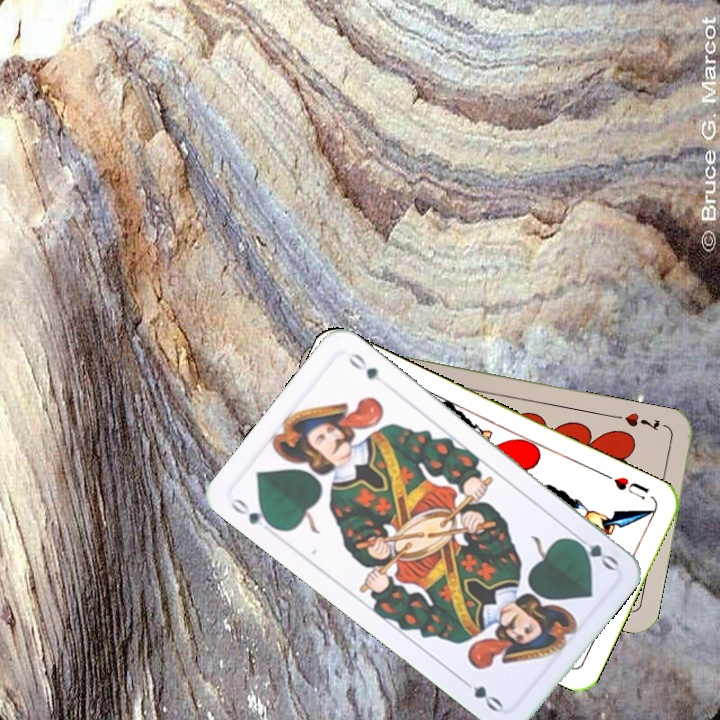GO: (566, 529, 621, 573), (226, 493, 279, 533)
H7: (620, 408, 662, 434)
HU: (600, 469, 652, 503)
